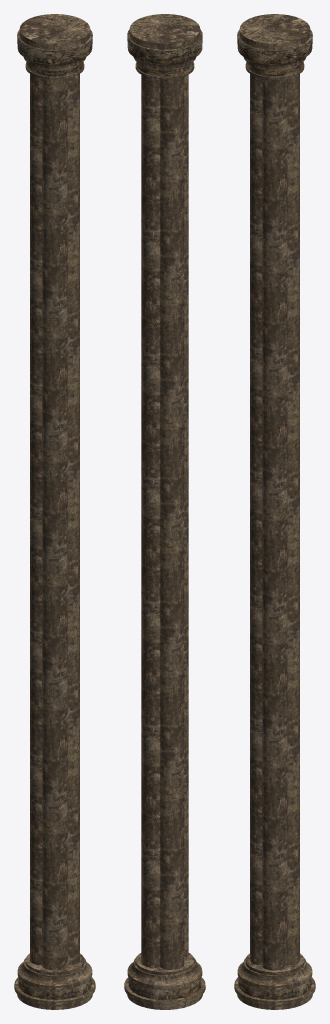
Rendered from materials_5_pillar_long_21.fbx.
3 views of the same model, side by side, from view 1: azimuth 90°, elevation 25°; view 2: azimuth 210°, elevation 25°; view 3: azimuth 270°, elevation 25° (orthographic).
Visible parts, largest first — view 1: materials_5_pillar_long_21; view 2: materials_5_pillar_long_21; view 3: materials_5_pillar_long_21.
Part boxes in pixels (x1,y1,x2,y2): materials_5_pillar_long_21: (14,14,95,1009); materials_5_pillar_long_21: (124,14,205,1009); materials_5_pillar_long_21: (234,14,315,1009).
Size of the model in its own units: 76.87 by 1004 by 76.87.
